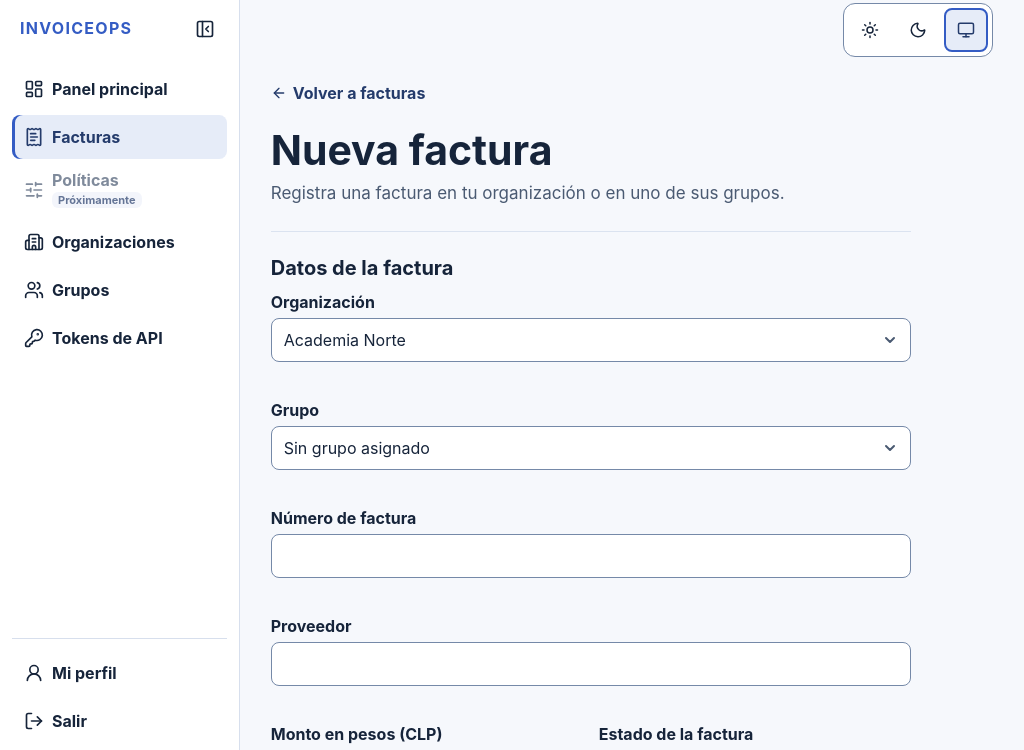
Test: creating an invoice (AC-01, AC-02) › creates 12500 pesos in the organization scope without a groupId
Step 1. Type "FAC-2026-001" into the field labelled "Número de factura" → (591, 556), box [271,534,911,578]
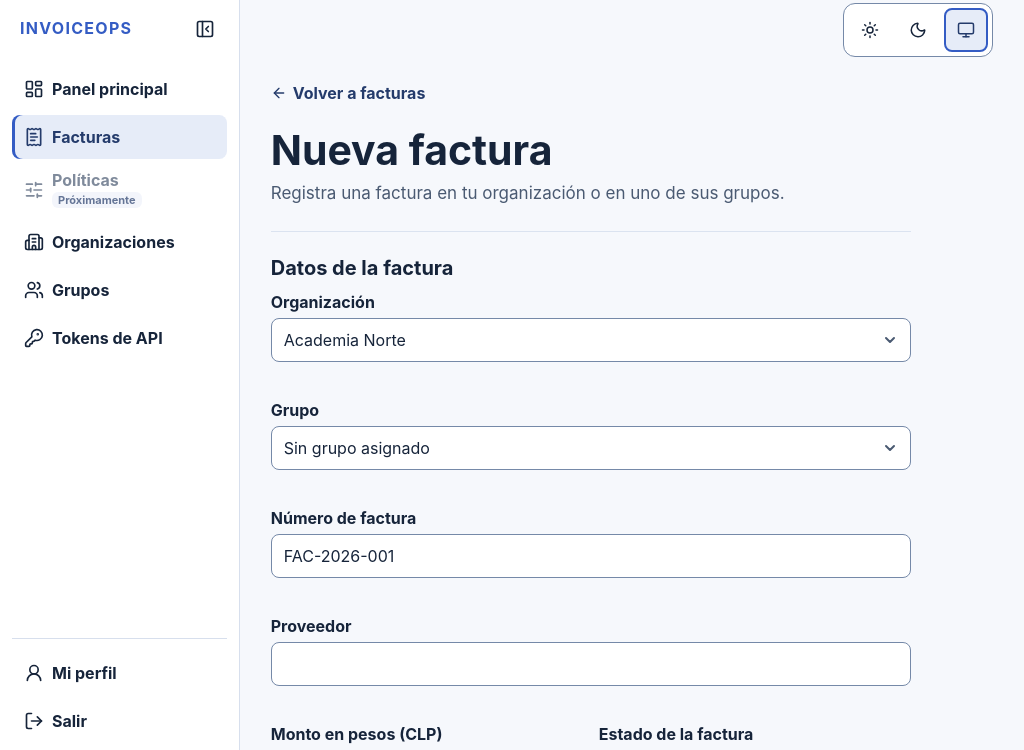
Step 2. Type "Proveedor local" into the field labelled "Proveedor" → (591, 664), box [271,642,911,686]
(page scrolled)
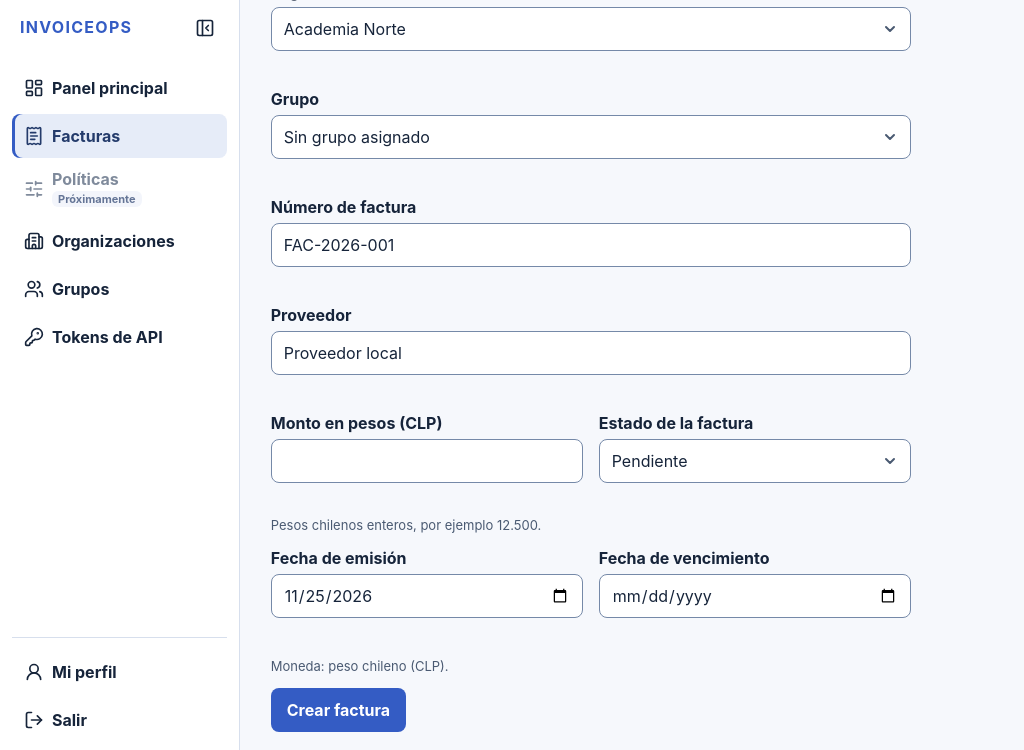
Step 3. Type "12.500" into the field labelled "Monto en pesos (CLP)" → (427, 461), box [271,439,583,483]
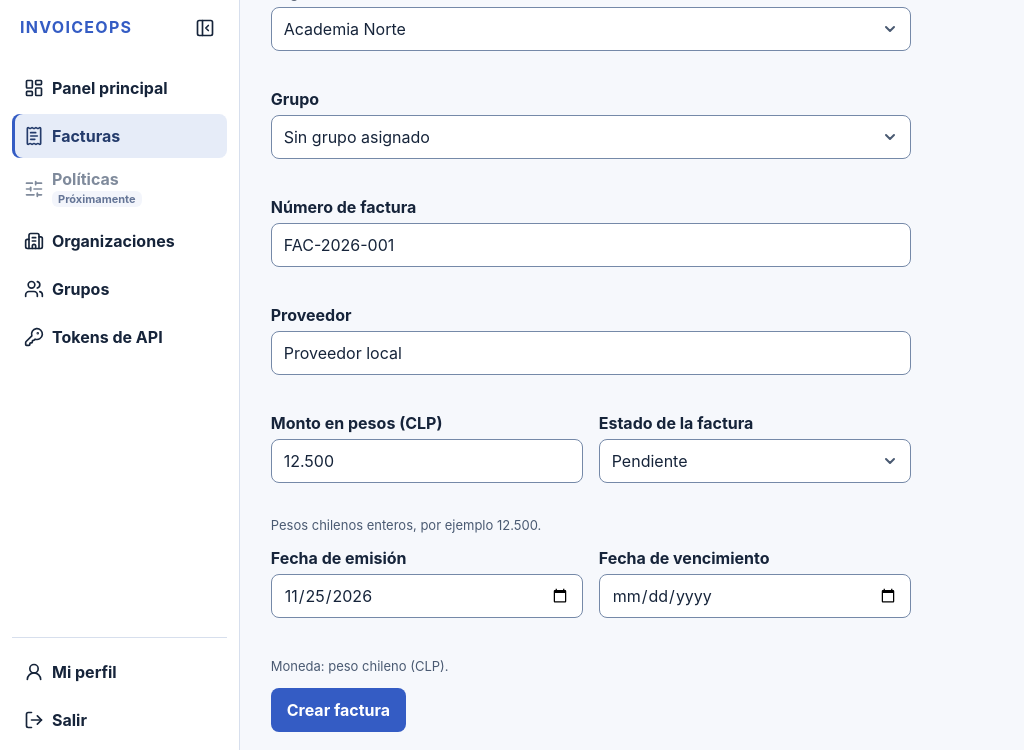
Step 4. Type "2026-10-25" into the date field labelled "Fecha de emisión" → (427, 596), box [271,574,583,618]
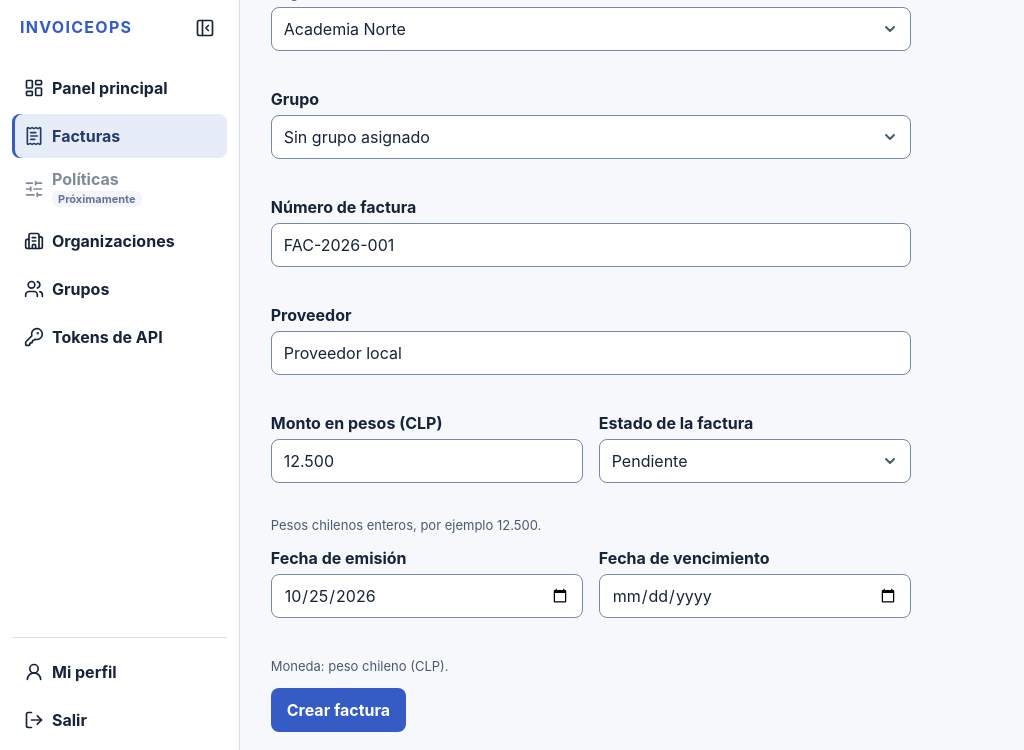
Step 5. Type "2026-11-25" into the date field labelled "Fecha de vencimiento" → (755, 596), box [599,574,911,618]
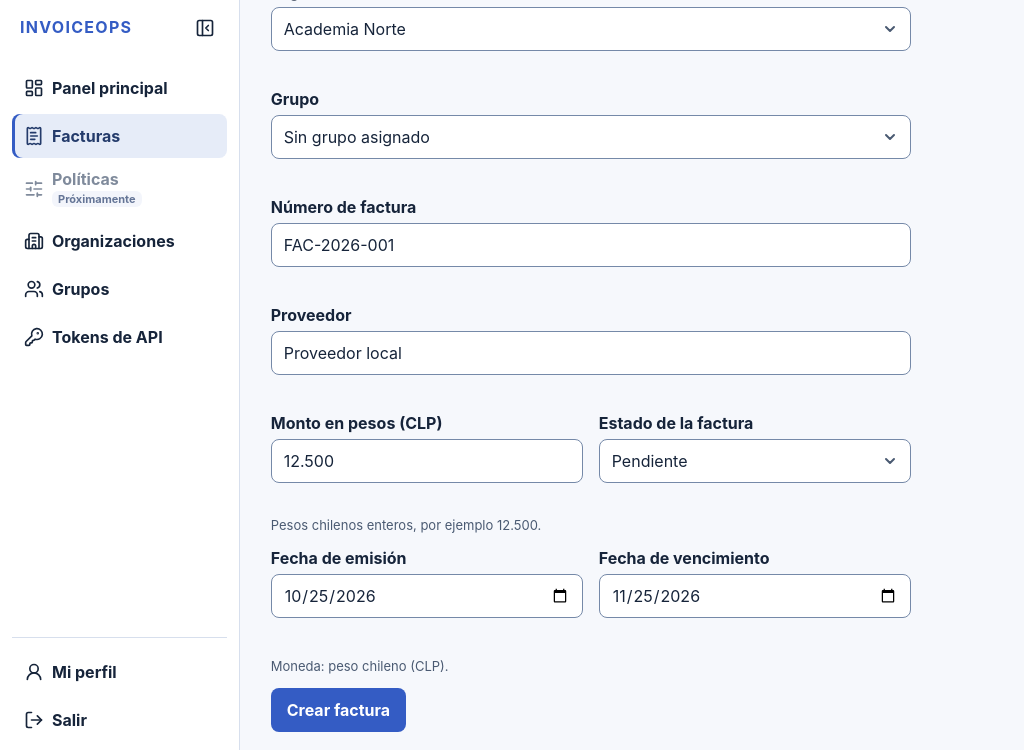
Step 6. Click the button "Crear factura" → (338, 710), box [271,688,406,732]
(page scrolled)
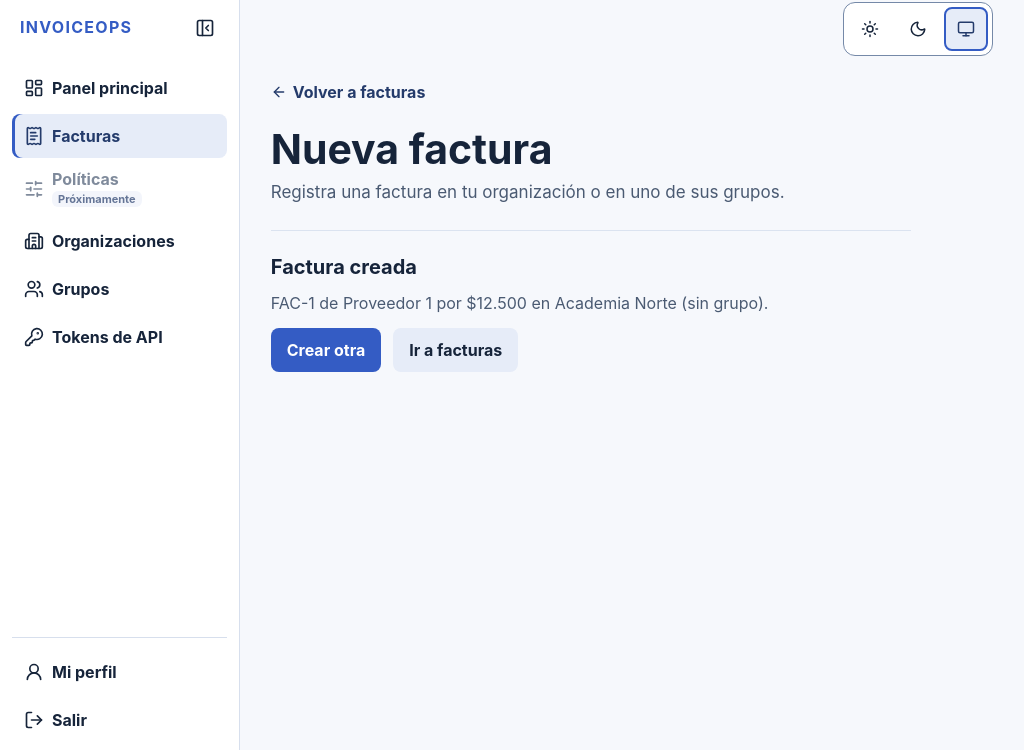
Now the heading "Factura creada" is shown, box [271,255,417,279]
